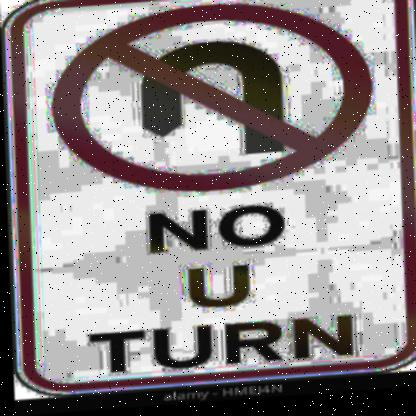No U-turn: (27, 0, 391, 202)
